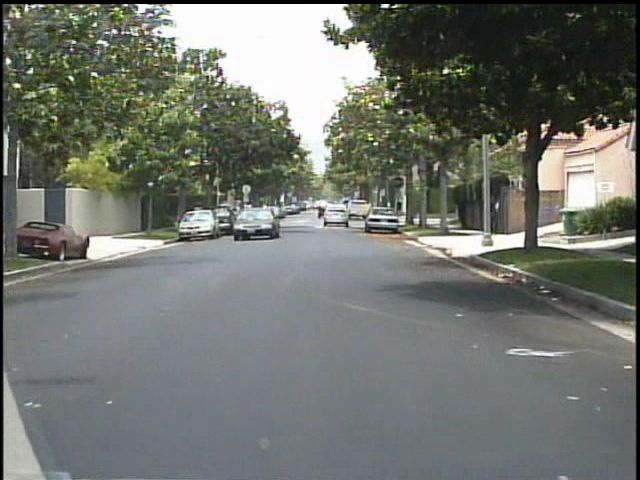person: (491, 192, 506, 237), (190, 201, 206, 232)
